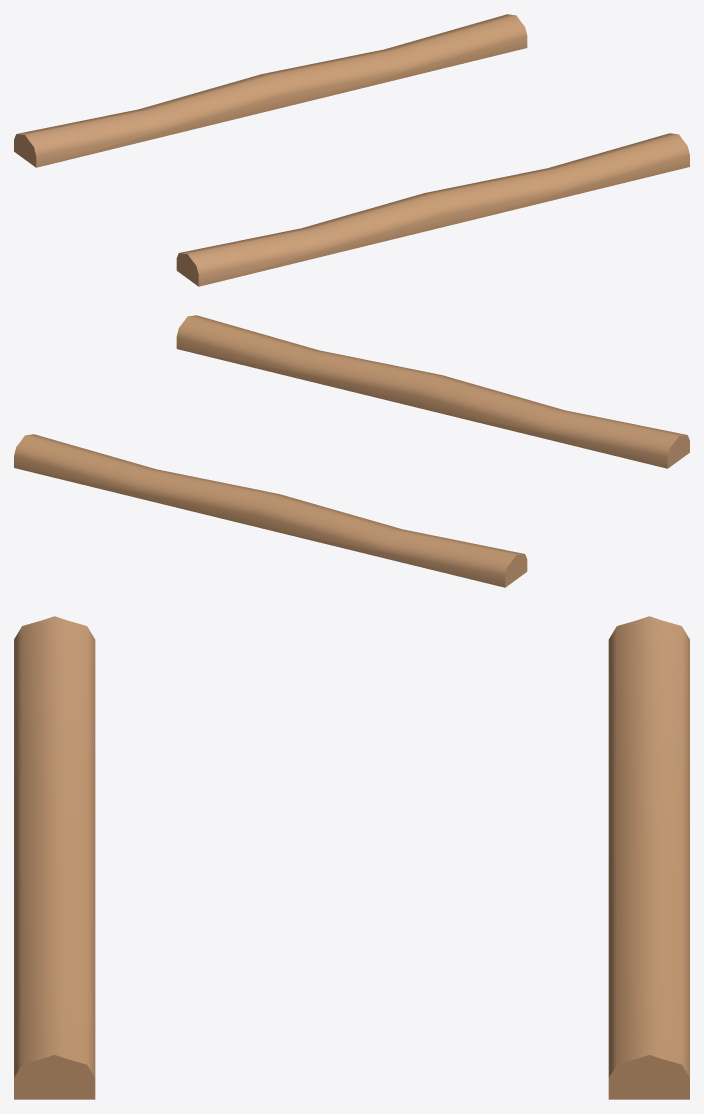
File: DirtBikeSandTrackBarriers.glb
3 views of the same model, one above another, from view 1: azimuth 30°, elevation 25°; view 2: azimuth 150°, elevation 25°; view 3: azimuth 270°, elevation 25° (orthographic). The views are drawn at different scales.
Parts seen in each view (by area): view 1: DirtBikeSandTrackBarriers; view 2: DirtBikeSandTrackBarriers; view 3: DirtBikeSandTrackBarriers.
Part boxes in pixels (left/top/right/bottom): DirtBikeSandTrackBarriers: left=14, top=14, right=689, bottom=286; DirtBikeSandTrackBarriers: left=14, top=315, right=689, bottom=587; DirtBikeSandTrackBarriers: left=14, top=616, right=689, bottom=1099.
Bounding box in the file's own units: 8 × 0.3824 × 5.21.
Materials: 1 (1 with a texture image).
